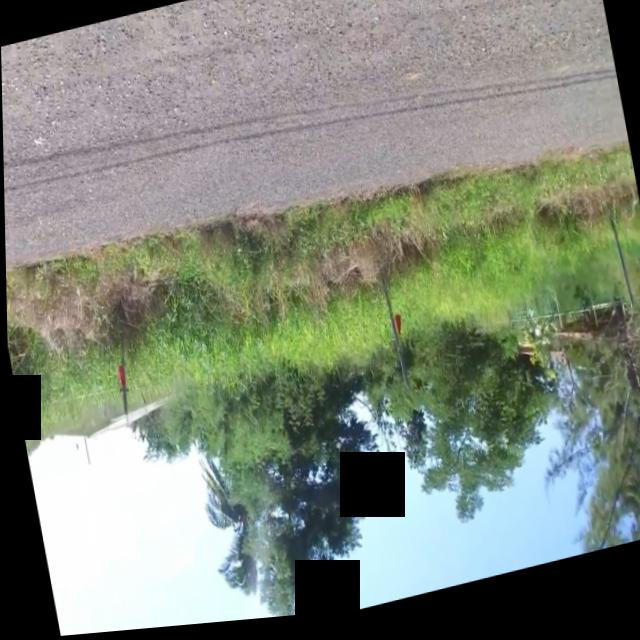Pole: (373, 278, 412, 409), (605, 222, 635, 323), (104, 328, 138, 417)
